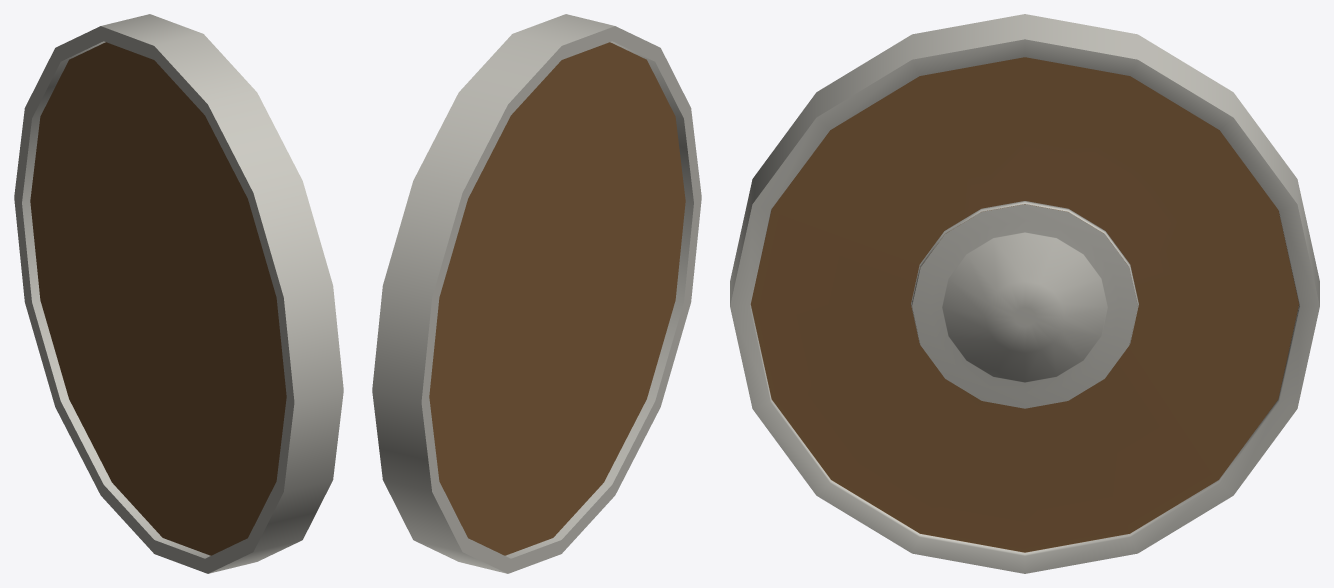
Rendered from medieval_shield.fbx.
3 renders of one model, left to right at view 1: azimuth 30°, elevation 25°; view 2: azimuth 150°, elevation 25°; view 3: azimuth 270°, elevation 25°, orthographic. The views are drawn at different scales.
Visible parts, largest first — view 1: Shield; view 2: Shield; view 3: Shield.
Part boxes in pixels (x1,y1,x2,y2): Shield: [14, 14, 343, 573]; Shield: [372, 14, 701, 573]; Shield: [730, 14, 1319, 573].
Size of the model in its own units: 85.01 by 582 by 582.
